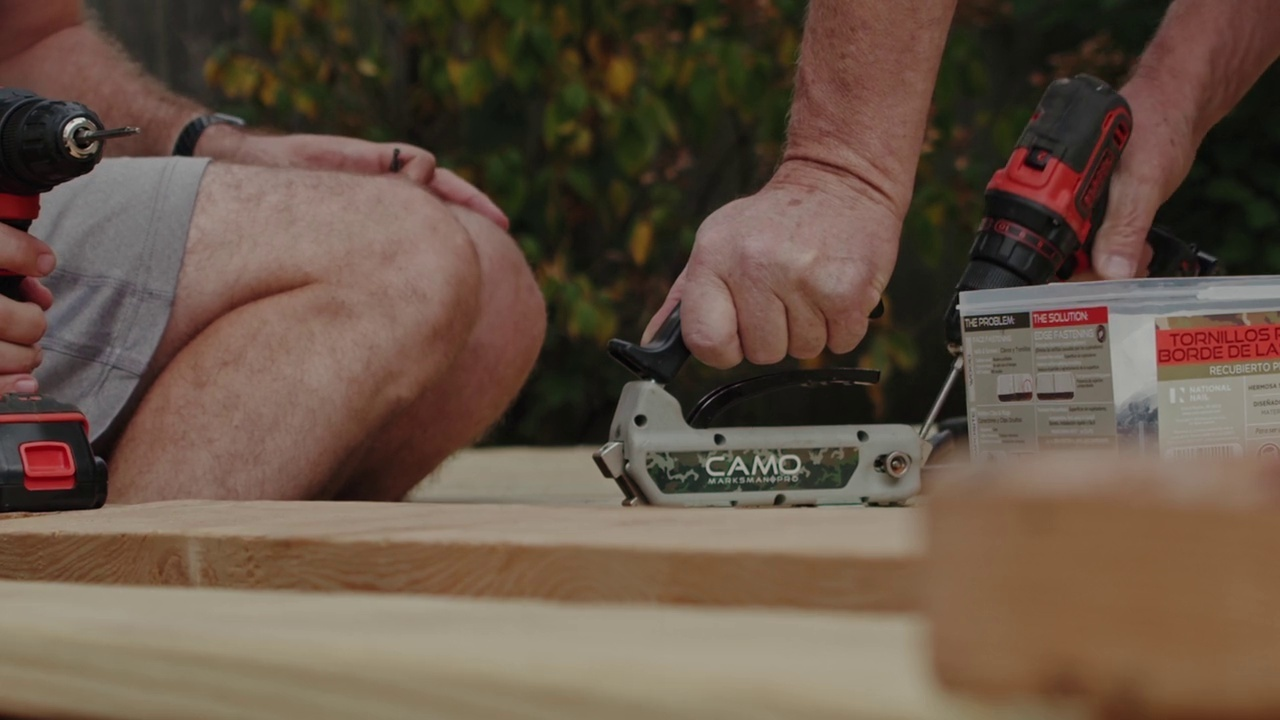driller: (915, 65, 1228, 451), (1, 85, 143, 515)
